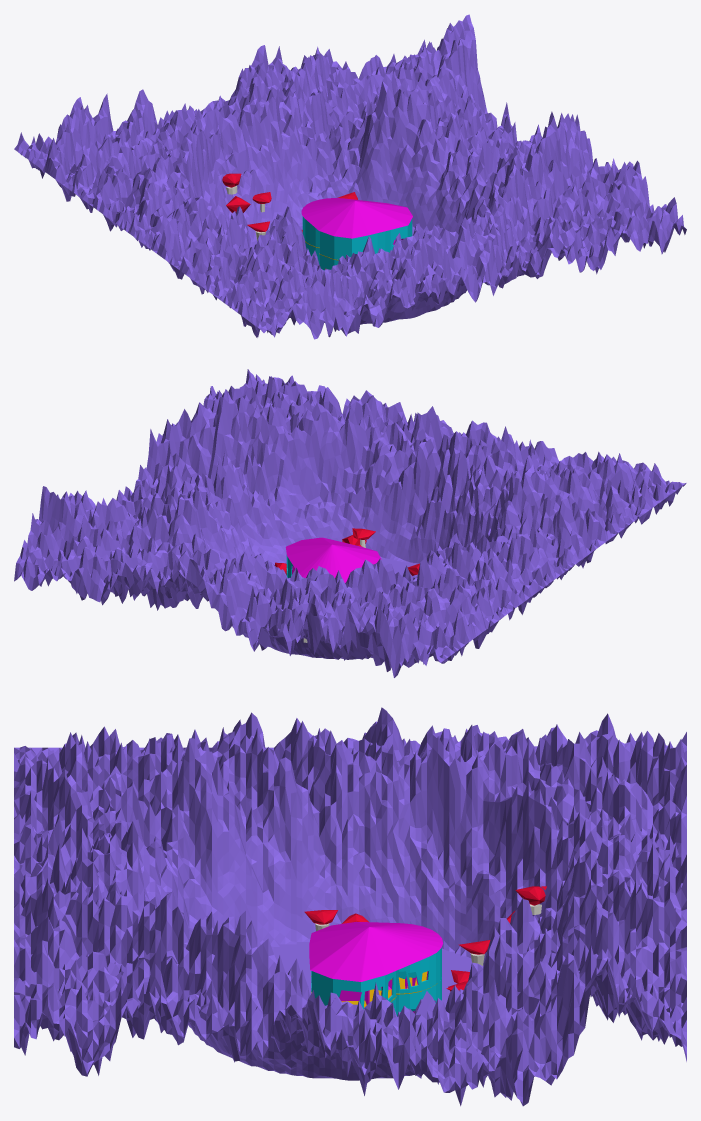
The model's file is metatest.glb.
3 renders of one model, top to bottom at view 1: azimuth 30°, elevation 25°; view 2: azimuth 150°, elevation 25°; view 3: azimuth 270°, elevation 25°, orthographic. The views are drawn at different scales.
Parts seen in each view (by area): view 1: Topology Out, Roof0, Bases0, Forest; view 2: Topology Out, Roof0, Forest; view 3: Topology Out, Roof0, Bases0, Forest.
Boxes of the visible parts, bbox=[...] form: Topology Out: bbox=[14, 14, 686, 339]; Roof0: bbox=[301, 198, 412, 238]; Bases0: bbox=[302, 216, 412, 270]; Forest: bbox=[222, 173, 357, 232]; Topology Out: bbox=[14, 369, 686, 677]; Roof0: bbox=[285, 537, 381, 583]; Forest: bbox=[274, 528, 419, 575]; Topology Out: bbox=[14, 707, 686, 1106]; Roof0: bbox=[309, 921, 442, 981]; Bases0: bbox=[311, 947, 441, 1016]; Forest: bbox=[304, 886, 546, 991].
Bounding box in the file's own units: 238 × 81.48 × 238.
